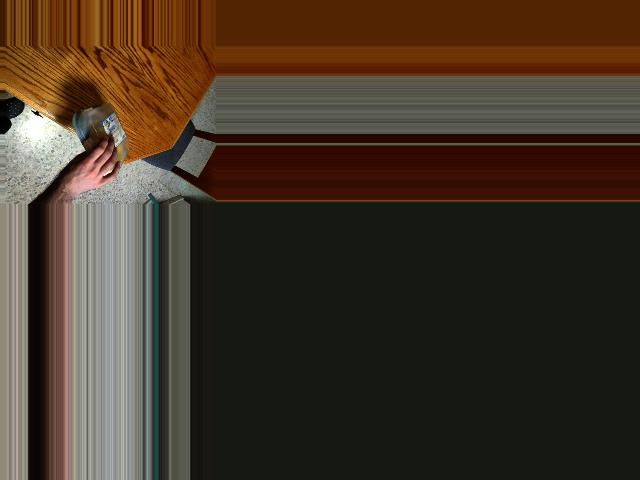cheese: (78, 107, 120, 166)
